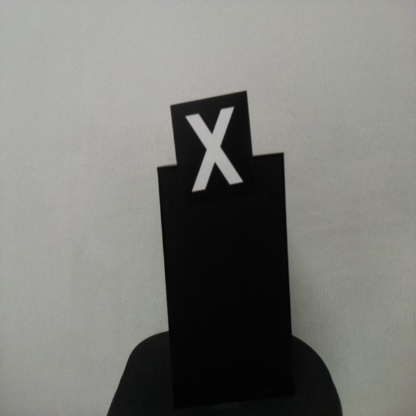id_13: (170, 103, 254, 207)
